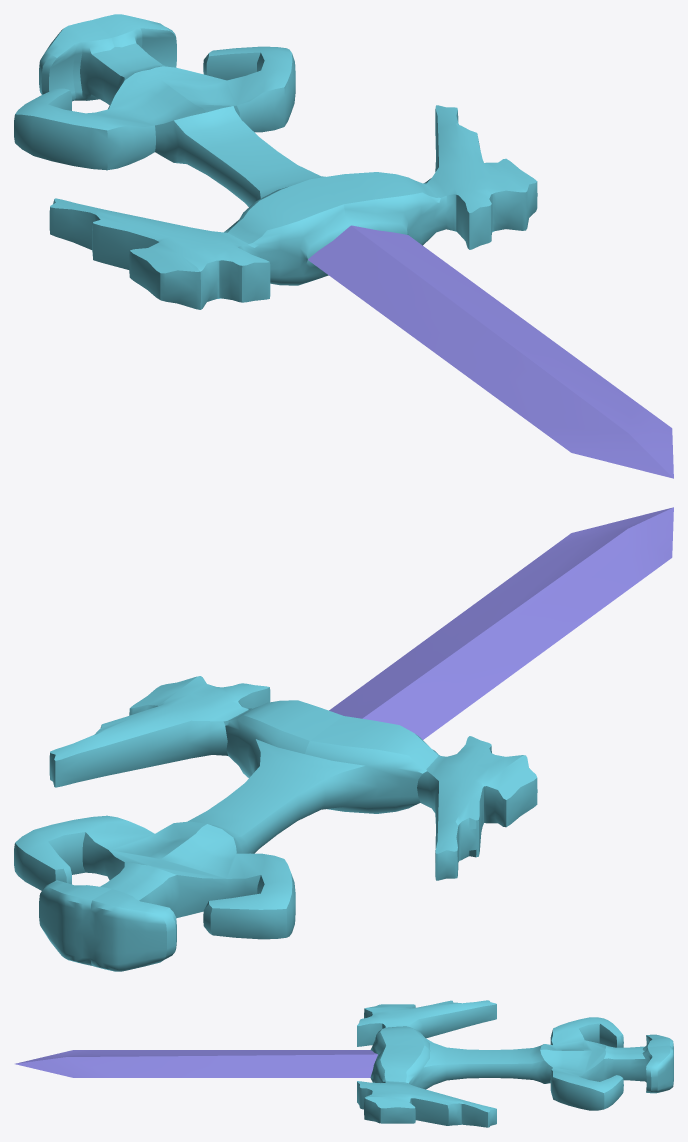
Rendered from Knife.fbx.
3 views of the same model, one above another, from view 1: azimuth 30°, elevation 25°; view 2: azimuth 150°, elevation 25°; view 3: azimuth 270°, elevation 25° (orthographic). The views are drawn at different scales.
Visible parts, largest first — view 1: Cube.002, Cube.003; view 2: Cube.002, Cube.003; view 3: Cube.002, Cube.003.
Part boxes in pixels (x1=…): Cube.002: x1=14, y1=14, x2=537, y2=309; Cube.003: x1=307, y1=225, x2=673, y2=478; Cube.002: x1=14, y1=676, x2=537, y2=971; Cube.003: x1=329, y1=507, x2=673, y2=739; Cube.002: x1=357, y1=1000, x2=673, y2=1127; Cube.003: x1=15, y1=1050, x2=377, y2=1077.
Size of the model in its own units: 643 by 102 by 1598.
